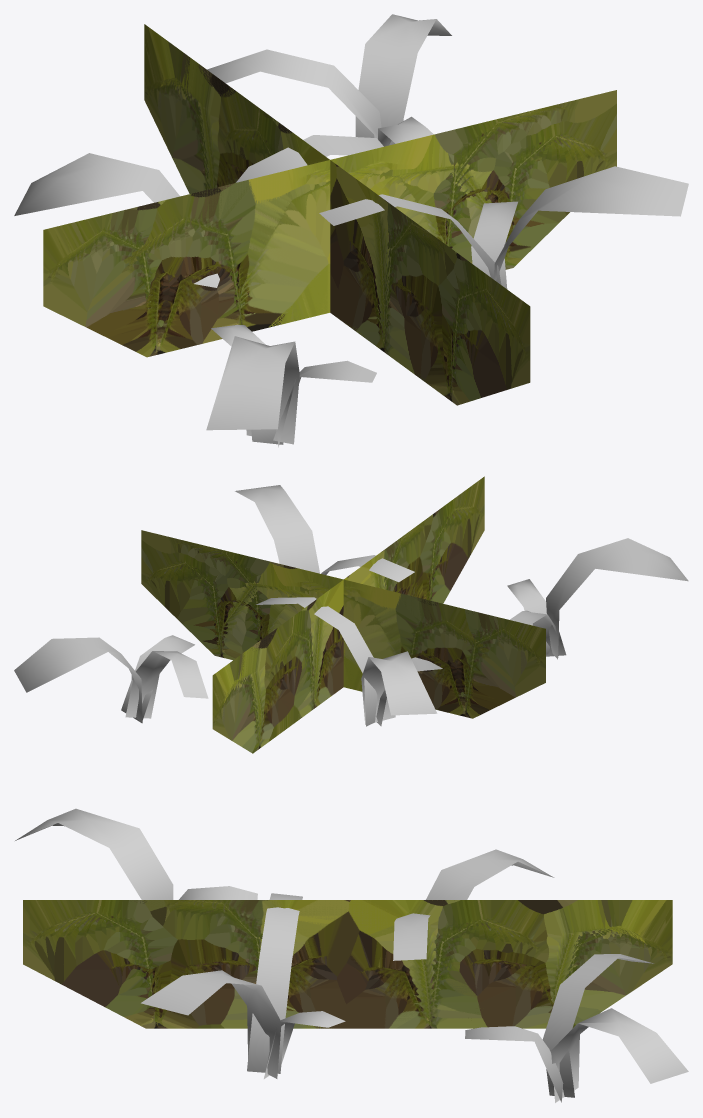
Rendered from Bush8.fbx.
The picture shows the model from 3 angles, top to bottom: view 1: azimuth 30°, elevation 25°; view 2: azimuth 150°, elevation 25°; view 3: azimuth 270°, elevation 25°; orthographic projection. The views are drawn at different scales.
Visible parts, largest first — view 1: Billboard, LOD0; view 2: Billboard, LOD0; view 3: Billboard, LOD0.
Boxes of the visible parts, x1,y1,x2,y2 form: Billboard: (43,24,616,405); LOD0: (14,14,688,447); Billboard: (141,476,545,753); LOD0: (14,485,688,726); Billboard: (23,900,672,1028); LOD0: (15,808,688,1102).
Size of what is drawn, in the model's own units: 468 by 118 by 540.
